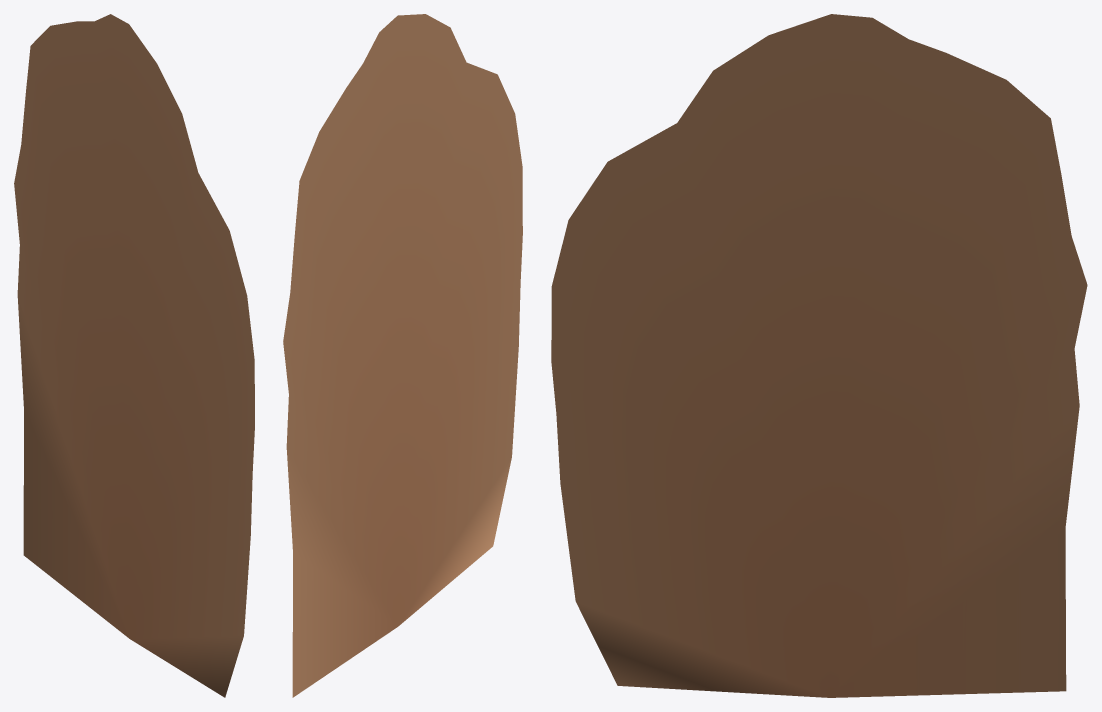
Rendered from Door....fbx.
The picture shows the model from 3 angles, left to right: view 1: azimuth 30°, elevation 25°; view 2: azimuth 150°, elevation 25°; view 3: azimuth 270°, elevation 25°; orthographic projection. The views are drawn at different scales.
Parts seen in each view (by area): view 1: polySurface32; view 2: polySurface32; view 3: polySurface32.
Boxes of the visible parts, x1,y1,x2,y2 form: polySurface32: [14, 14, 254, 697]; polySurface32: [283, 14, 522, 697]; polySurface32: [551, 14, 1087, 697].
Size of the model in its own units: 0 by 159 by 113.
1 material, 1 textured.
